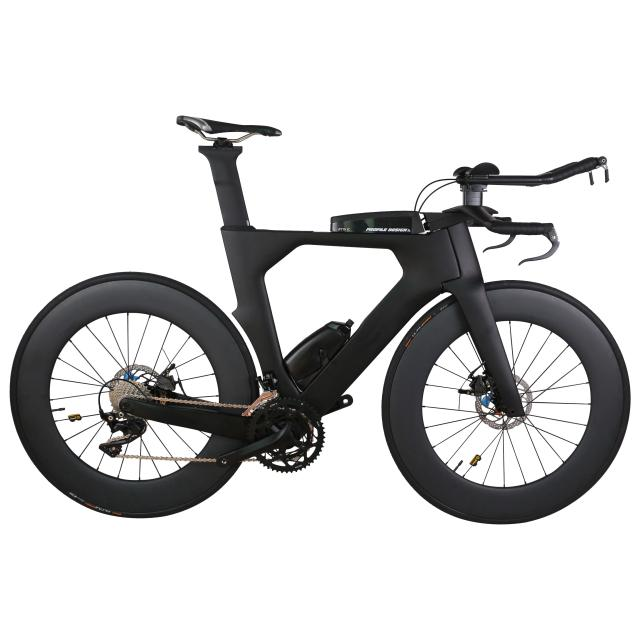TT-bike: (6, 112, 633, 524)
